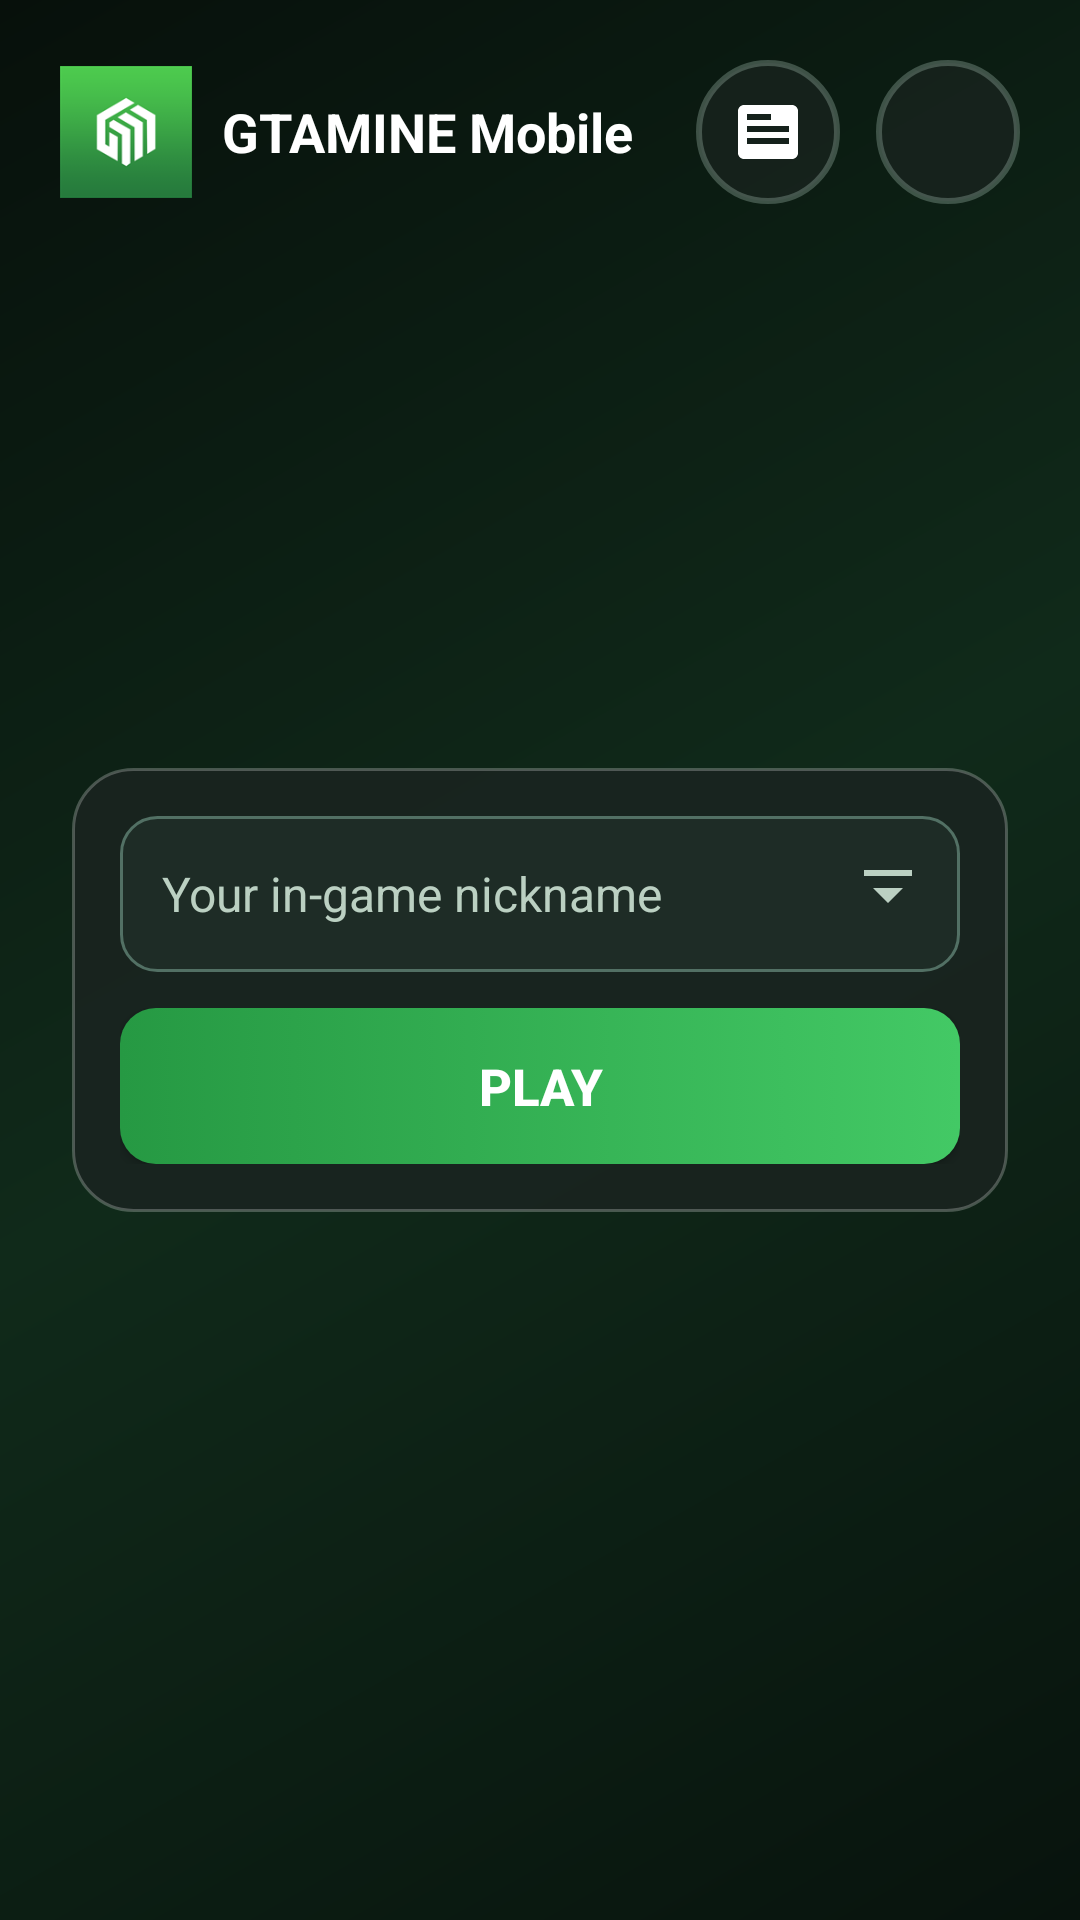

Icons on this 1080x1920 Android screen, each with its box as bbox=(x1, y1, x2, y2):
News: bbox=(696, 60, 840, 204)
